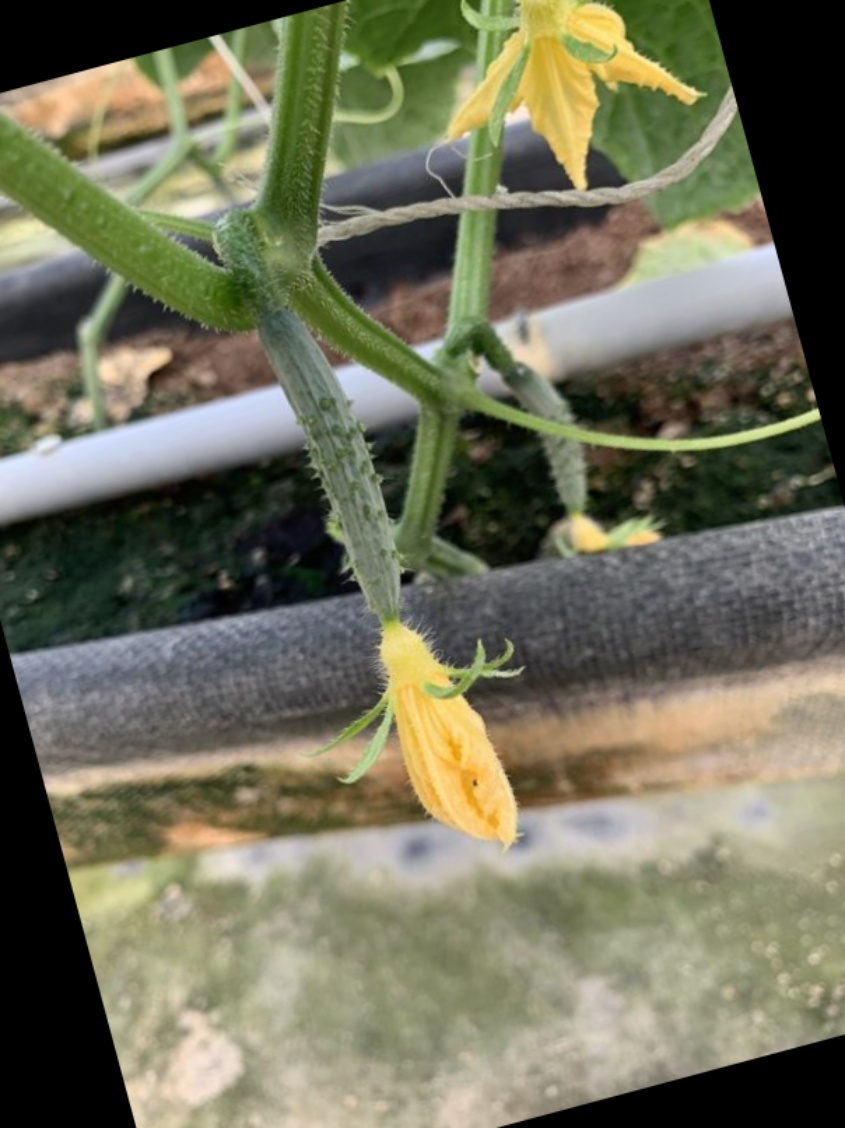bear: (237, 295, 518, 848)
